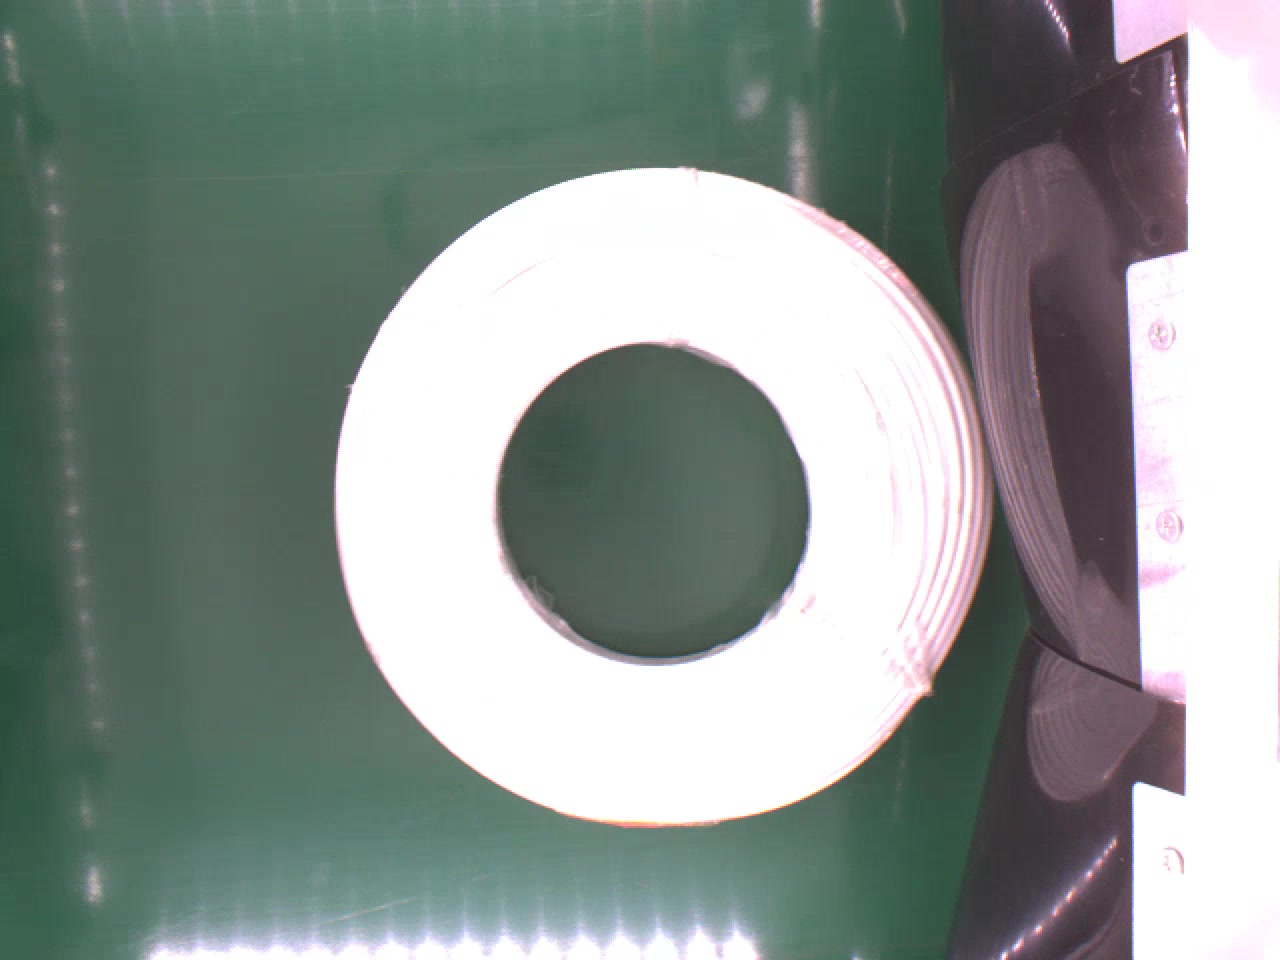white: (330, 161, 998, 830)
